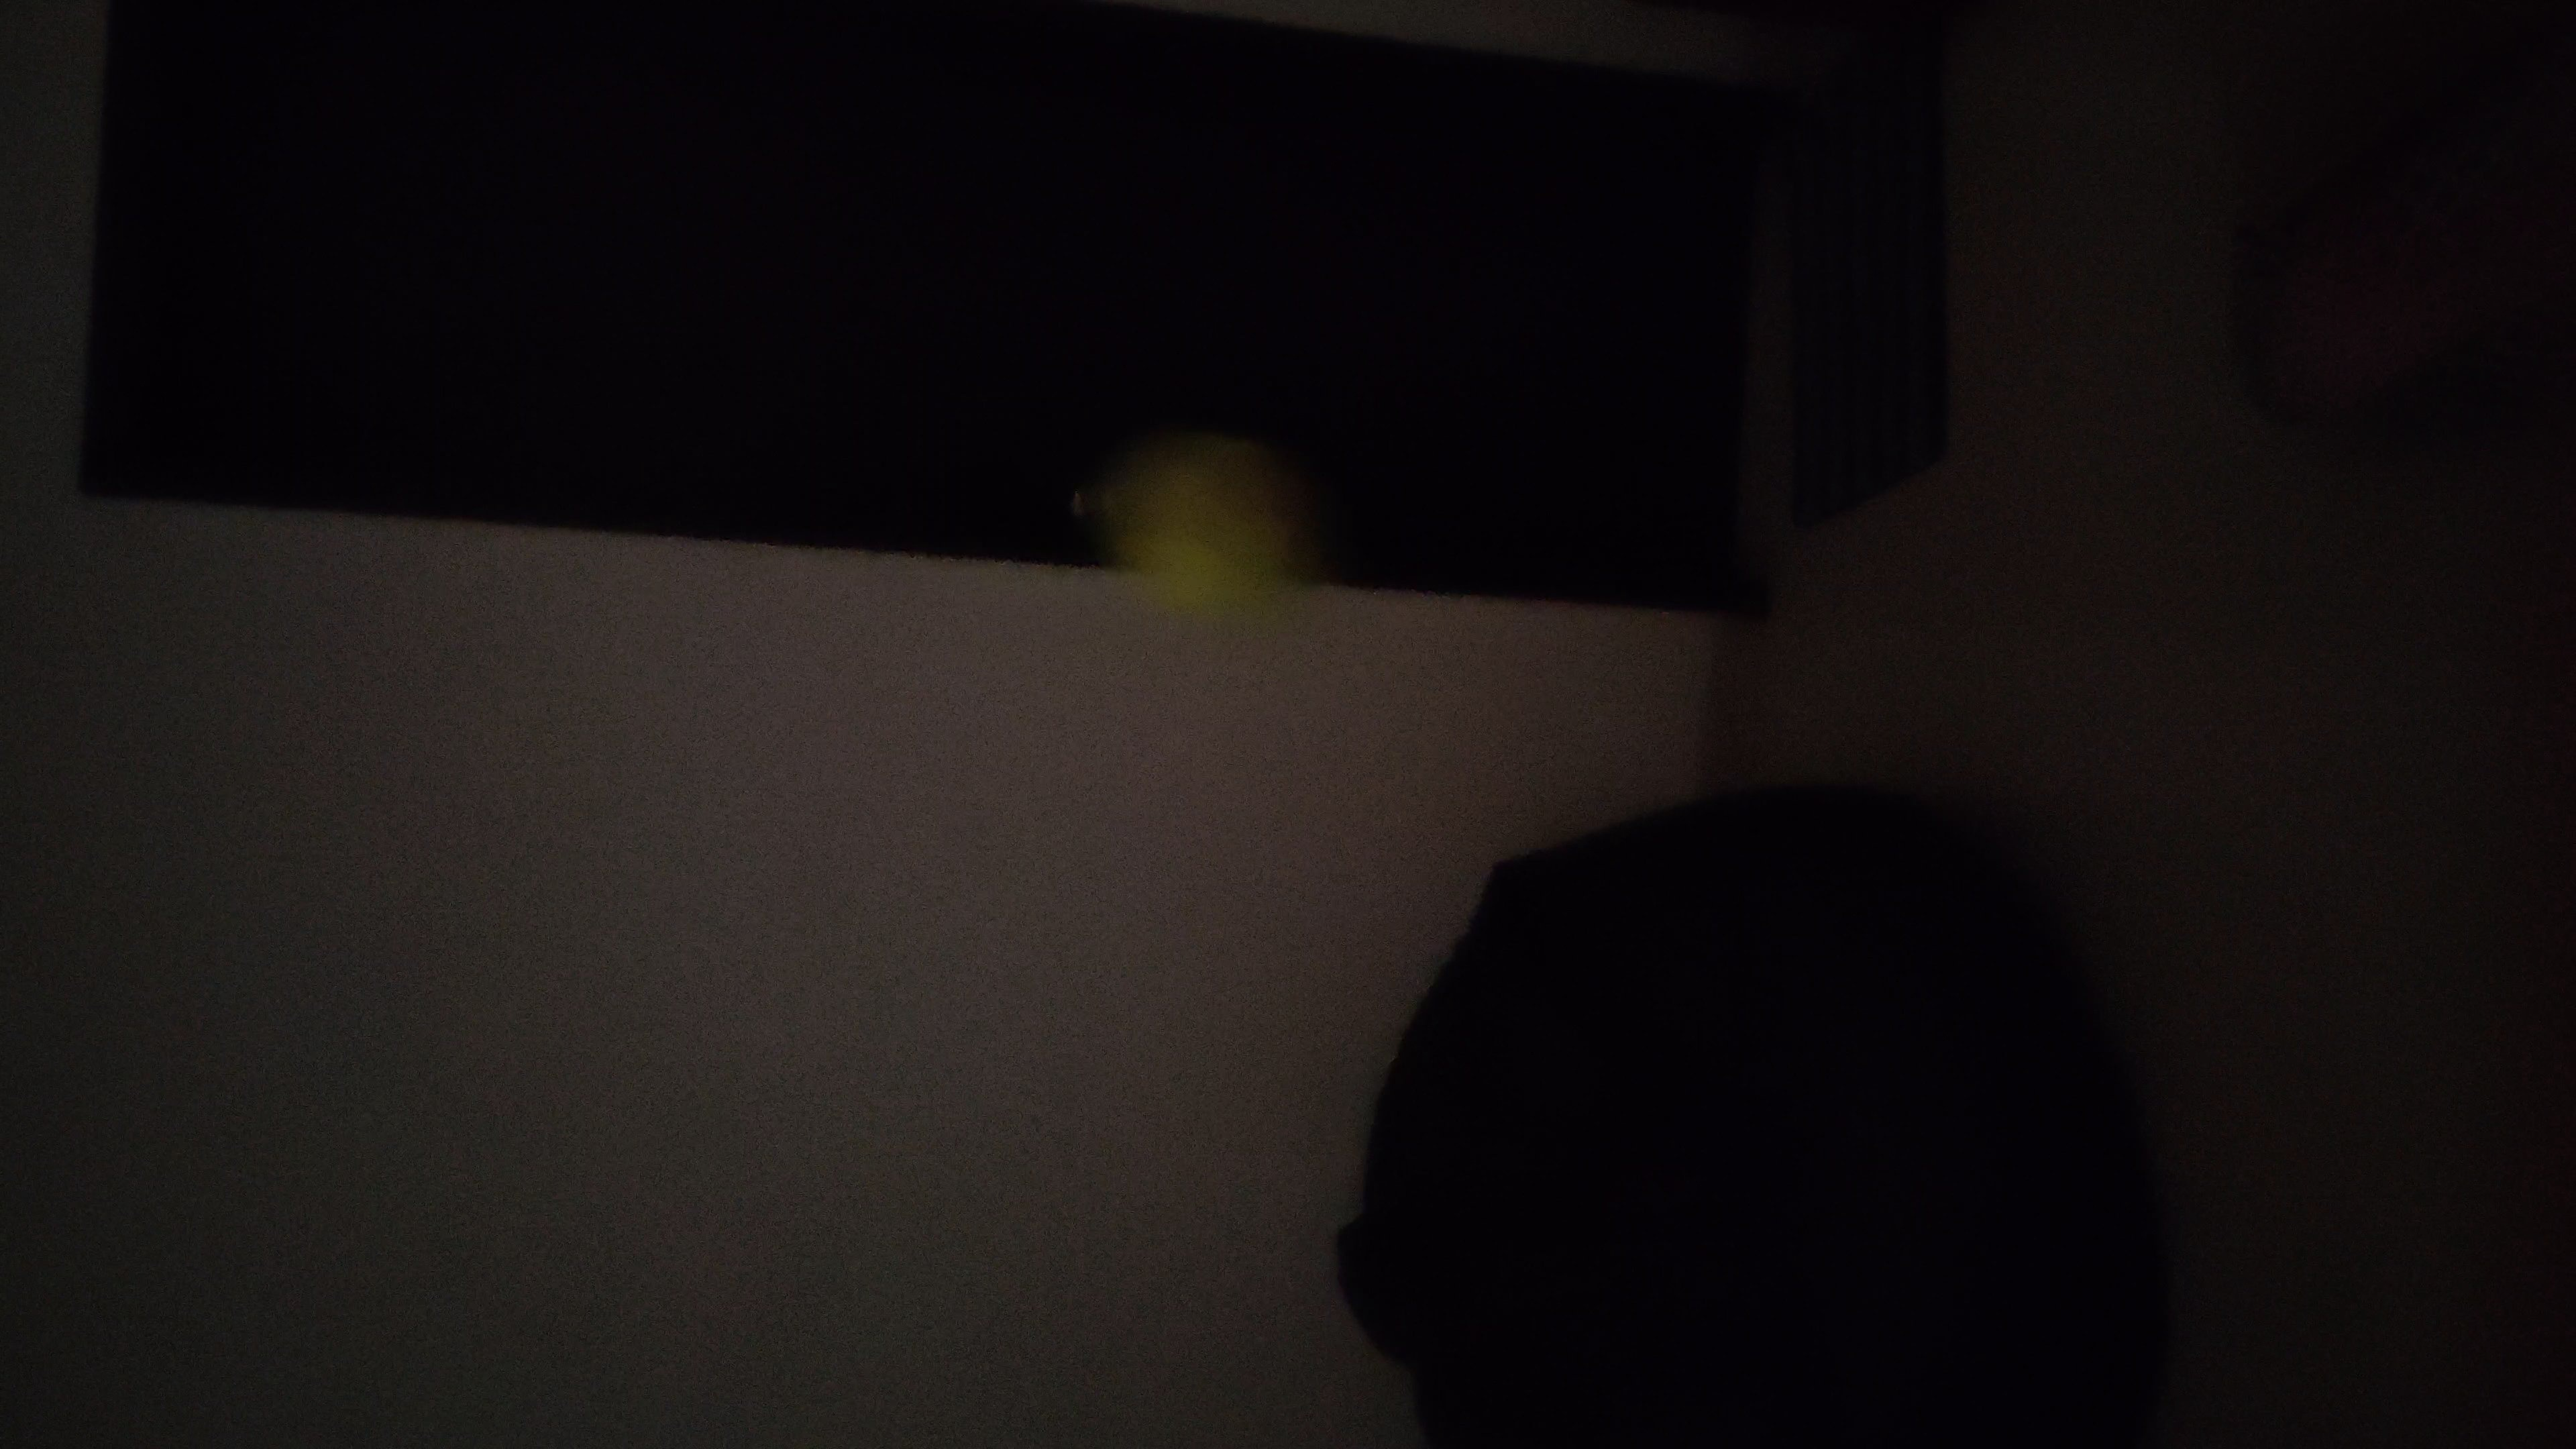Tennis-Ball: (1097, 435, 1318, 614)
